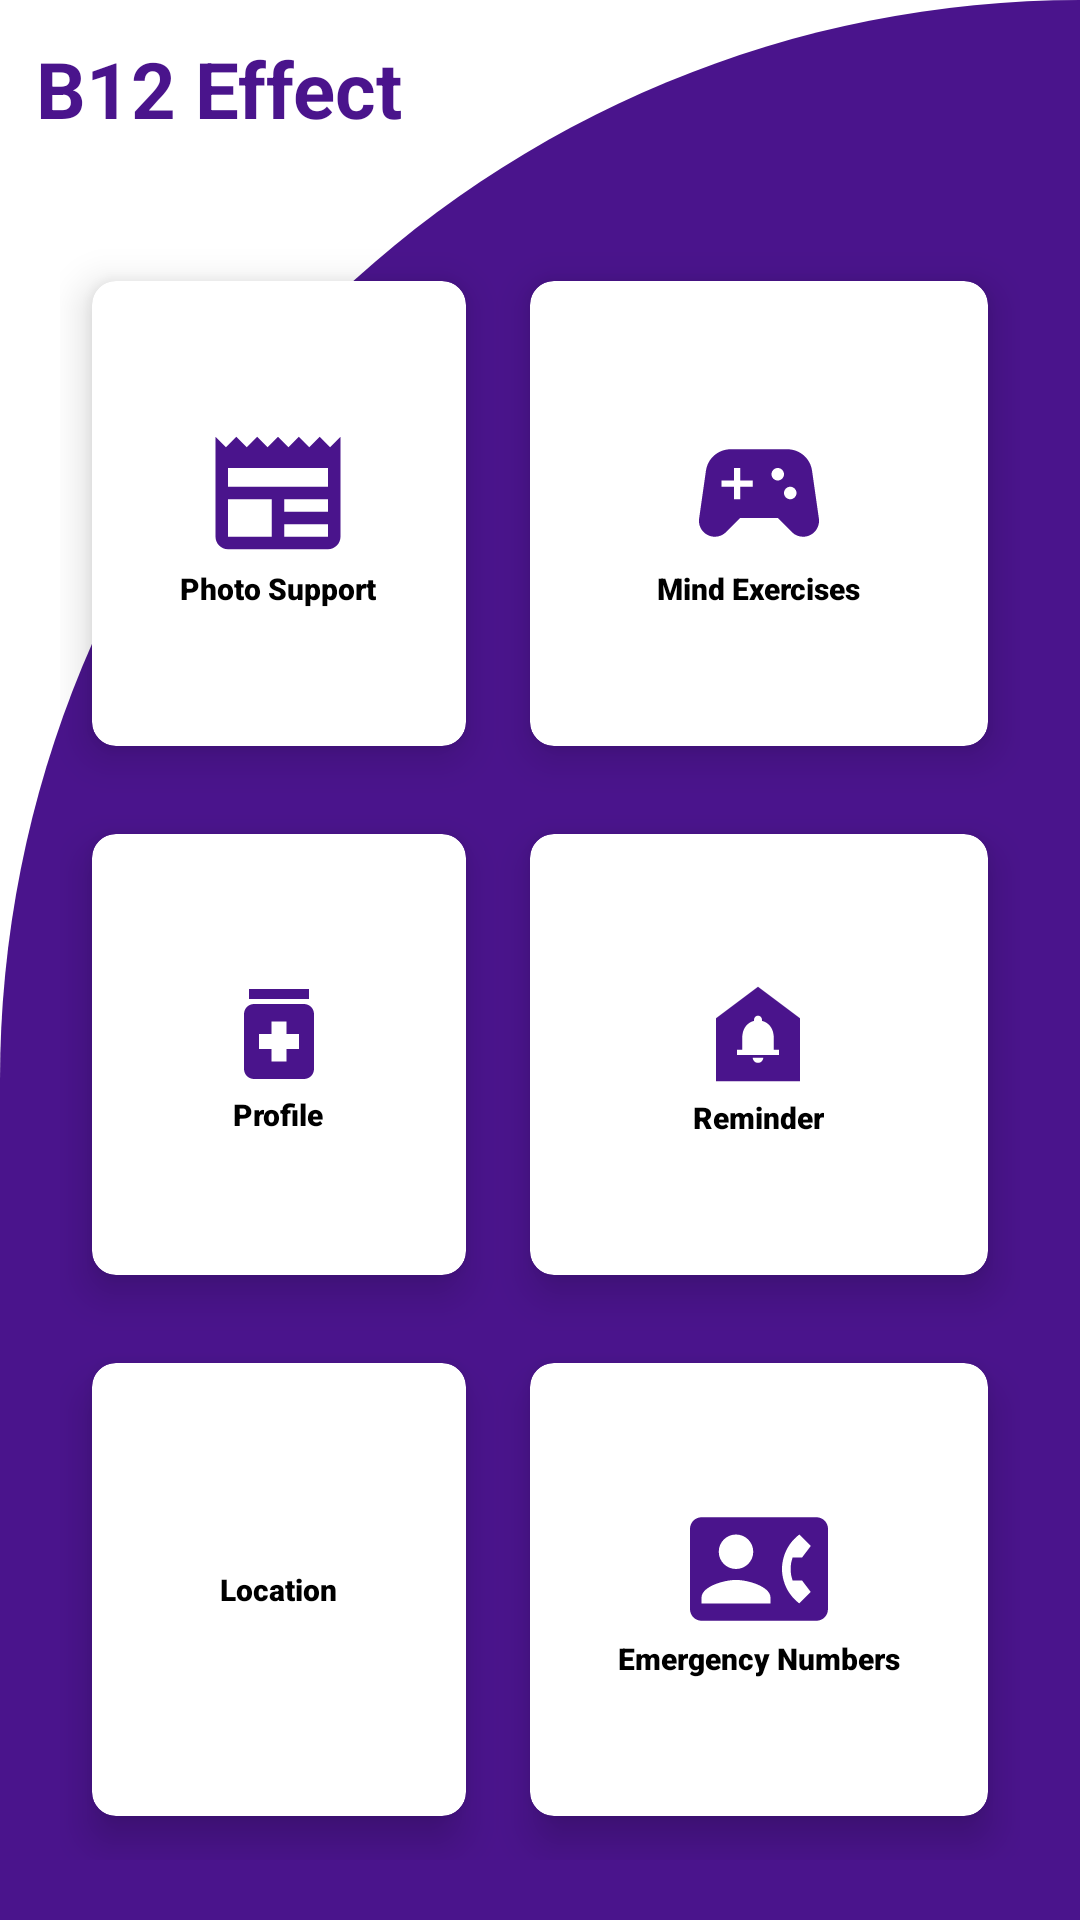

Named icons in this screenshot (1080x1920) and their centers, (x=x, y=y):
ba news: (x=278, y=493)
contact phone: (x=759, y=1569)
esports: (x=759, y=493)
